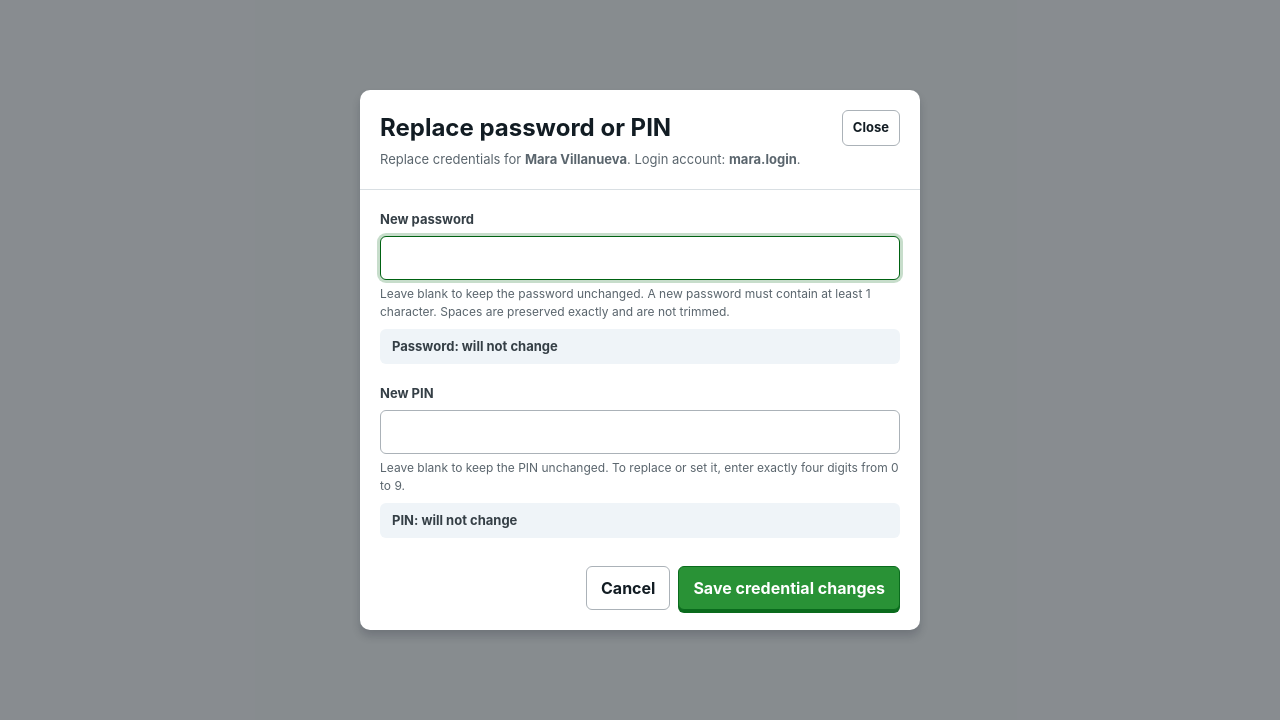
Test: StaffCredentialDialog › updates password and PIN together in one request
Type "new-pass" into the password field labelled "New password".
click(640, 258); type("new-pass")  # box x1=380 y1=236 x2=900 y2=280
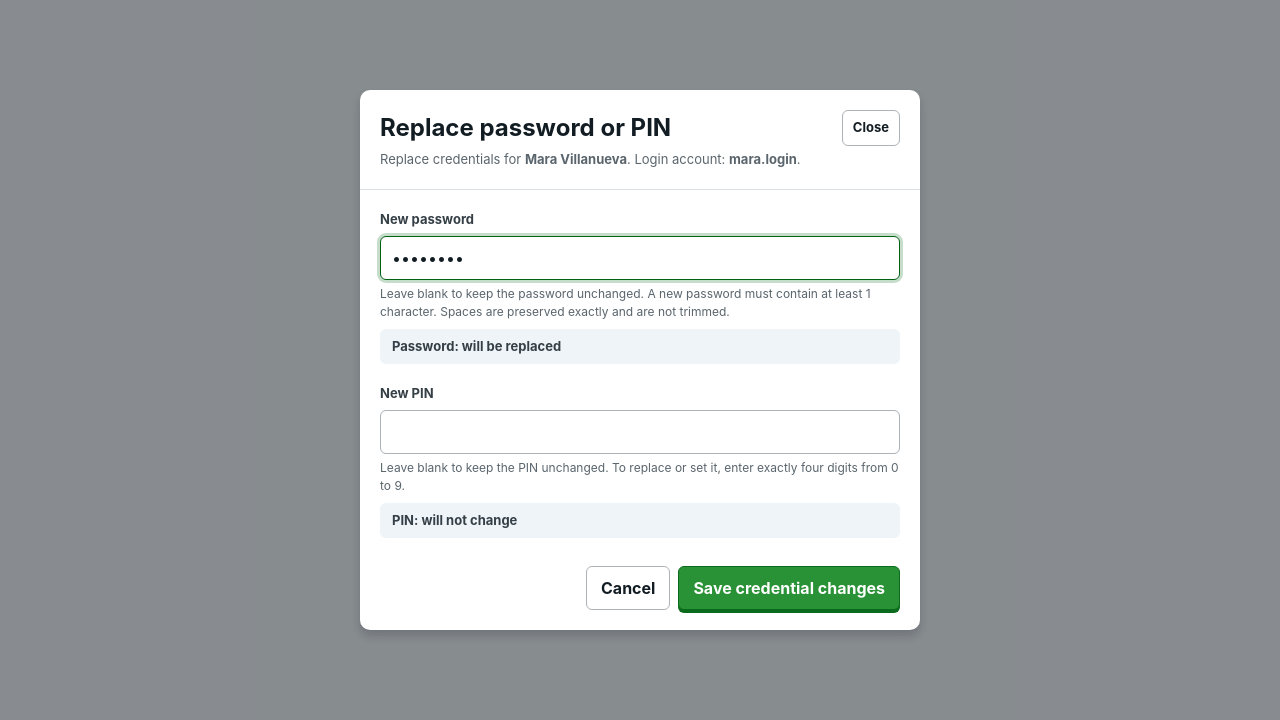
Type "7319" into the password field labelled "New PIN".
click(640, 432); type("7319")  # box x1=380 y1=410 x2=900 y2=454
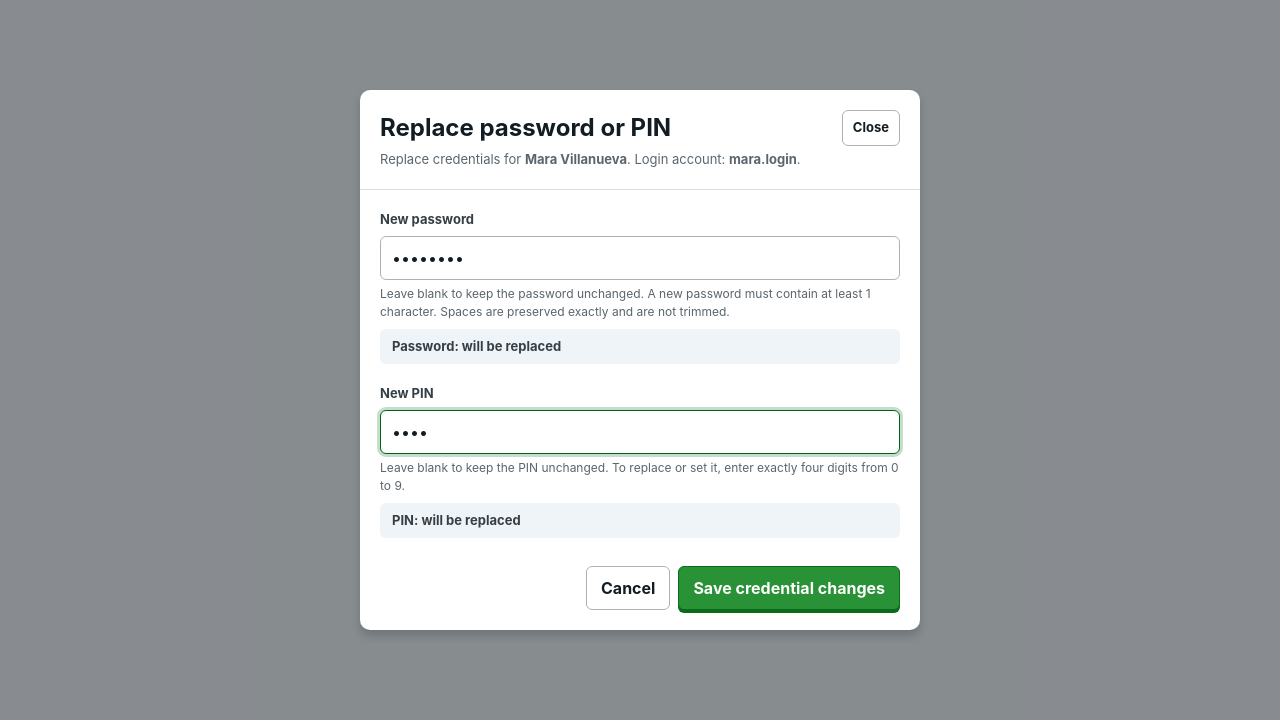
Click the button "Save credential changes".
click(789, 588)  # box x1=678 y1=566 x2=900 y2=610
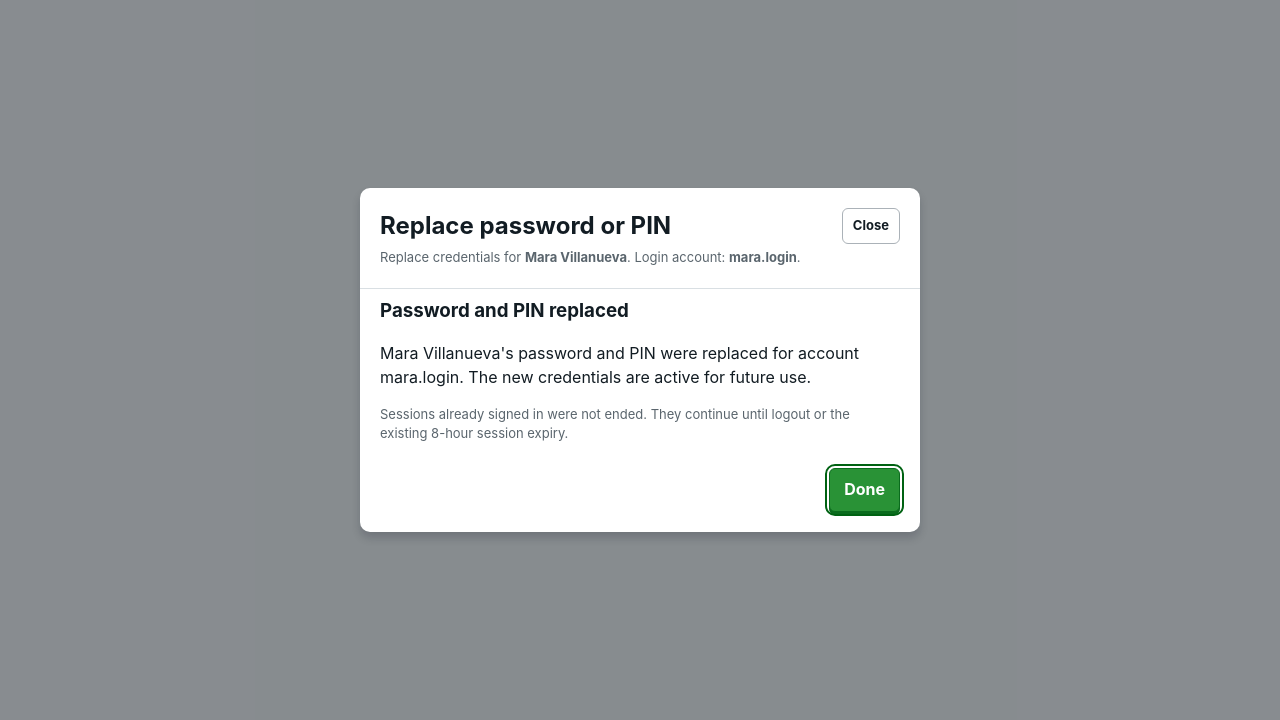
Expected: the dialog "Replace password or PIN" does not show "new-pass", x1=360 y1=188 x2=920 y2=532
Expected: the heading "Password and PIN replaced" is shown, x1=380 y1=299 x2=629 y2=322
